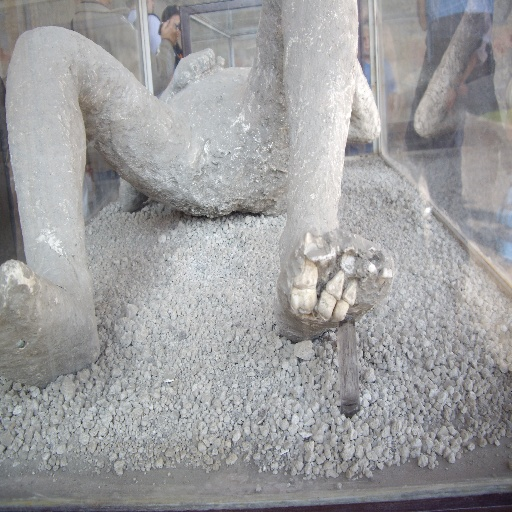hand: (168, 46, 225, 88), (161, 20, 177, 43)
